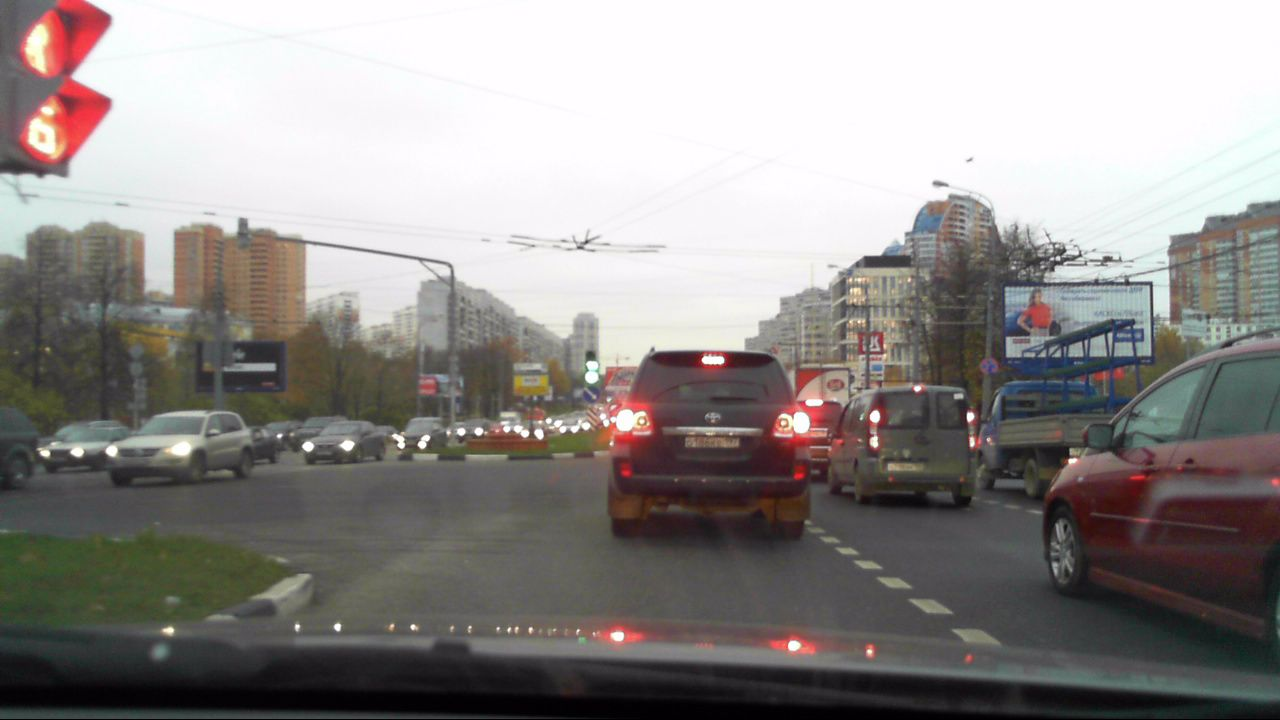No Parking: (978, 358, 997, 375)
